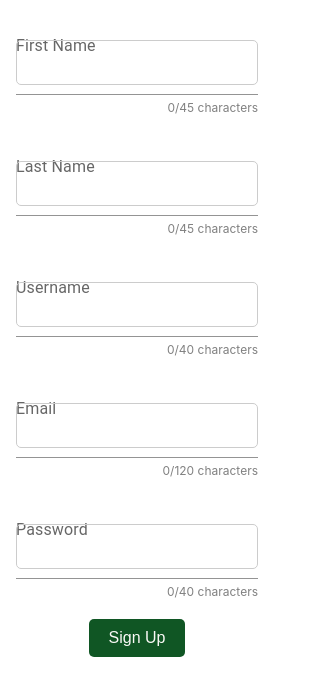
SignUp Component › submit button displays "Signing Up..." and is disabled when loading
// Fill in the form with default values
Type "John" into the field with placeholder "First Name" at [137, 62], box [16,40,258,85]
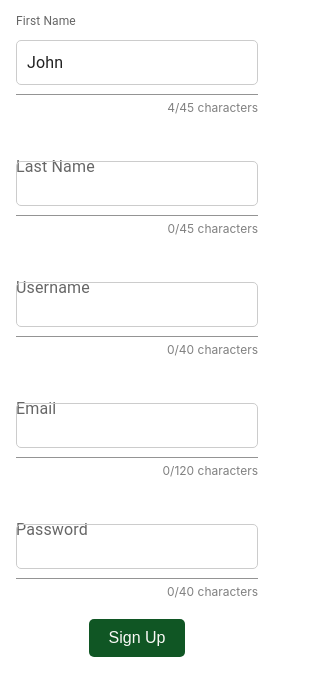
Type "Doe" into the field with placeholder "Last Name" at [137, 184], box [16,161,258,206]
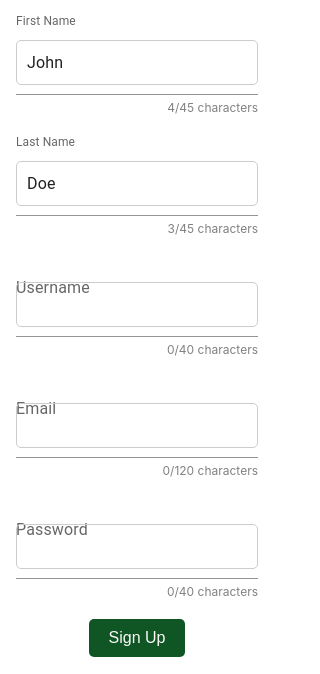
Type "johndoe" into the field with placeholder "Username" at [137, 304], box [16,282,258,327]
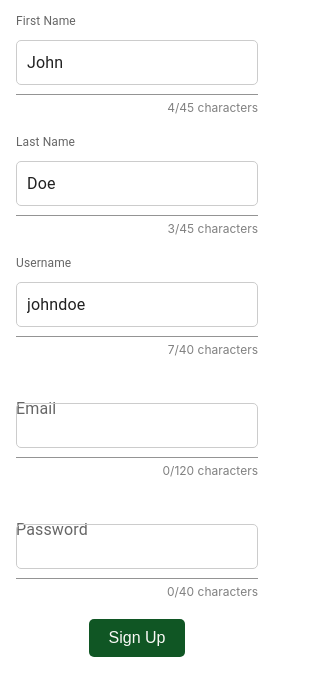
Type "john.doe@example.com" into the field with placeholder "Email Address" at [137, 426], box [16,403,258,448]
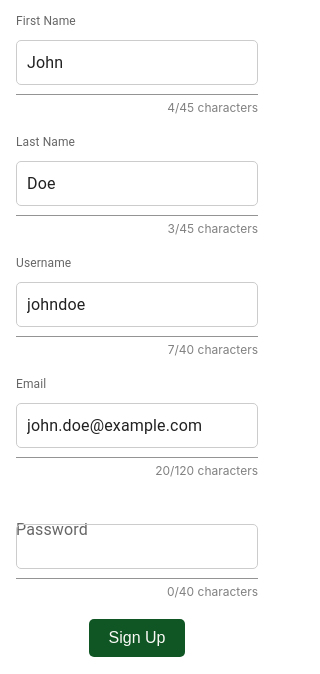
Type "password123" into the password field with placeholder "Enter User Password" at [137, 546], box [16,524,258,569]
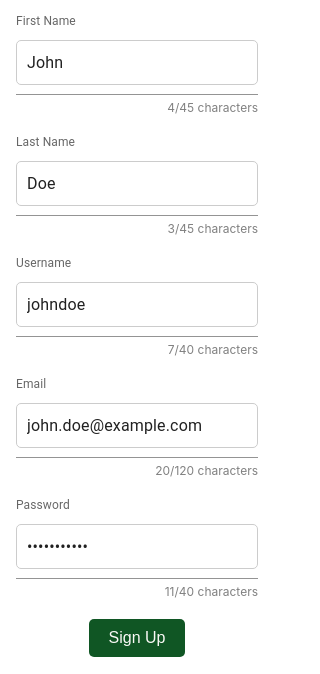
// Click the submit button to trigger the loading state
Click the button "Sign Up" at [137, 638], box [88,619,185,657]
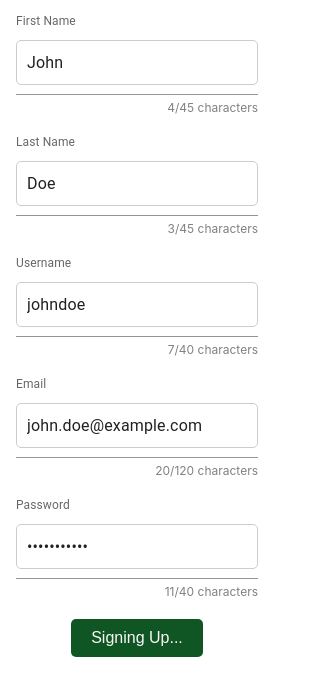
Check: the button named "Sign Up" reads "Signing Up...", box [71,619,203,657]
Check: the button named "Sign Up" is disabled, box [71,619,203,657]
